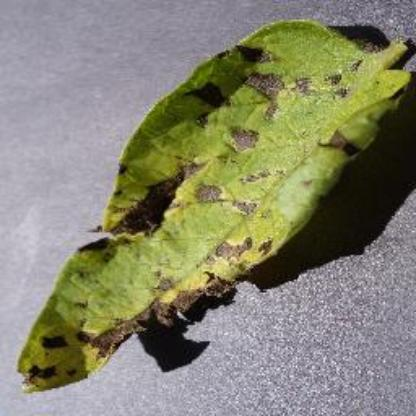Early-Blight: (17, 14, 416, 393)
